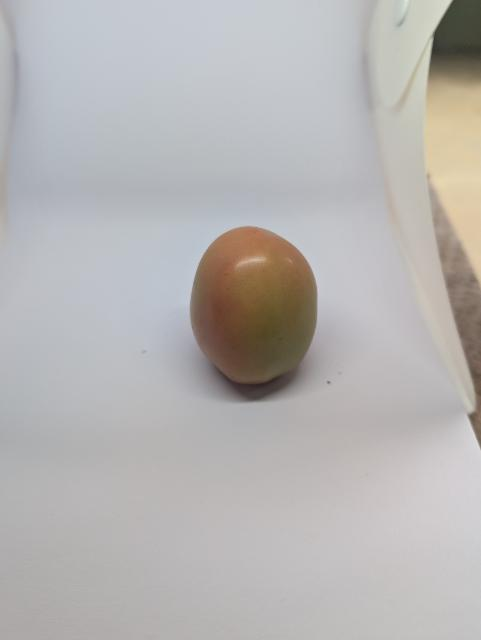turning: (180, 221, 329, 391)
